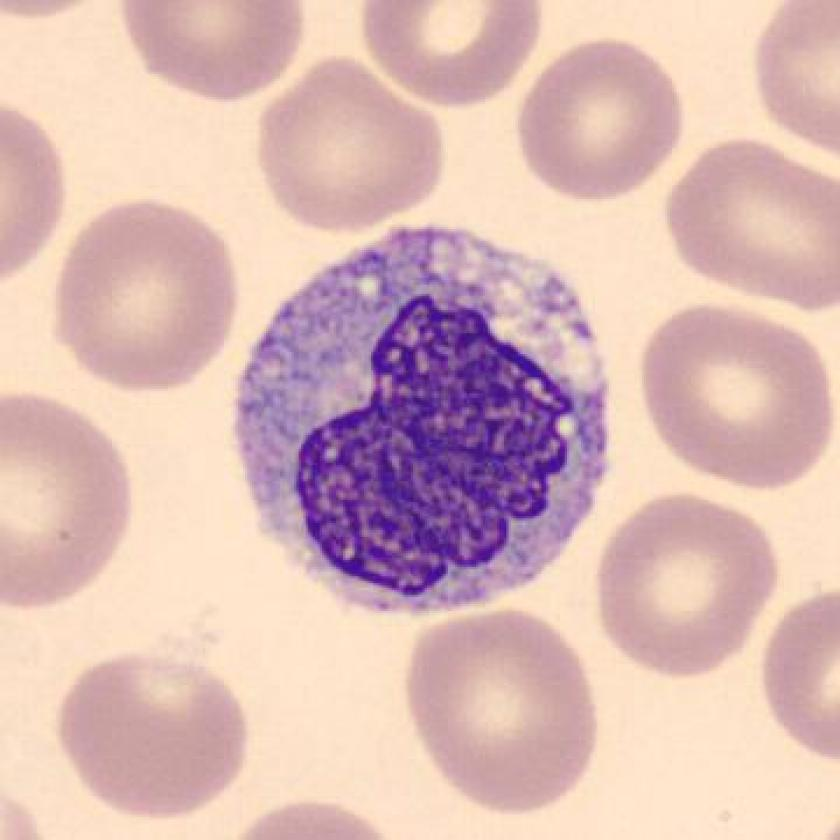monocyte: (213, 205, 636, 635)
